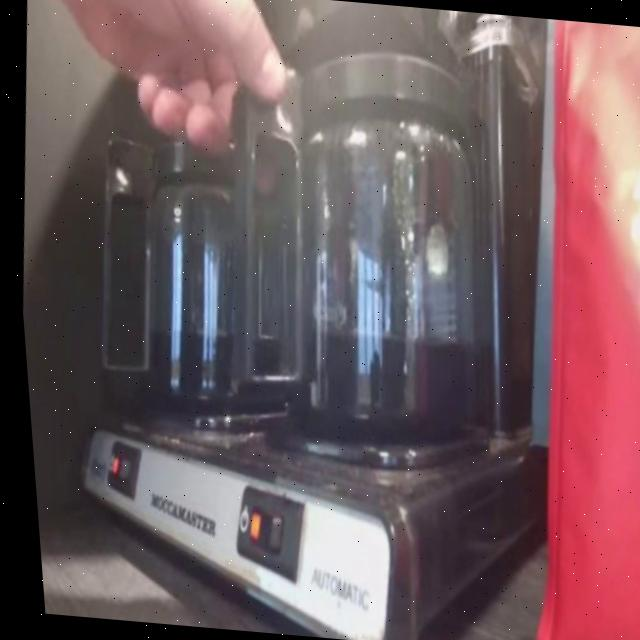coffee: (229, 34, 535, 490), (115, 121, 306, 427)
